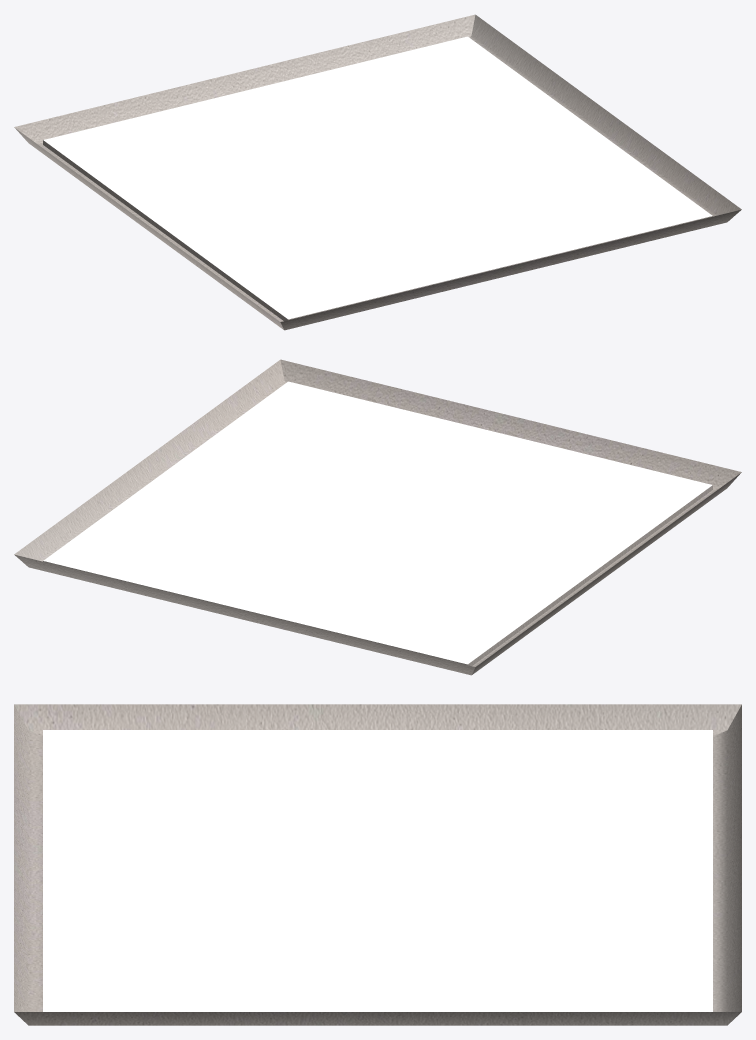
Rendered from Light.glb.
The picture shows the model from 3 angles, top to bottom: view 1: azimuth 30°, elevation 25°; view 2: azimuth 150°, elevation 25°; view 3: azimuth 270°, elevation 25°; orthographic projection. The views are drawn at different scales.
Parts seen in each view (by area): view 1: Light; view 2: Light; view 3: Light.
Part boxes in pixels (bbox=[...]): Light: bbox=[14, 14, 741, 330]; Light: bbox=[14, 359, 741, 675]; Light: bbox=[14, 704, 741, 1025].
Bounding box in the file's own units: 0.7745 × 0.0232 × 0.7745.
2 materials, 1 textured.
